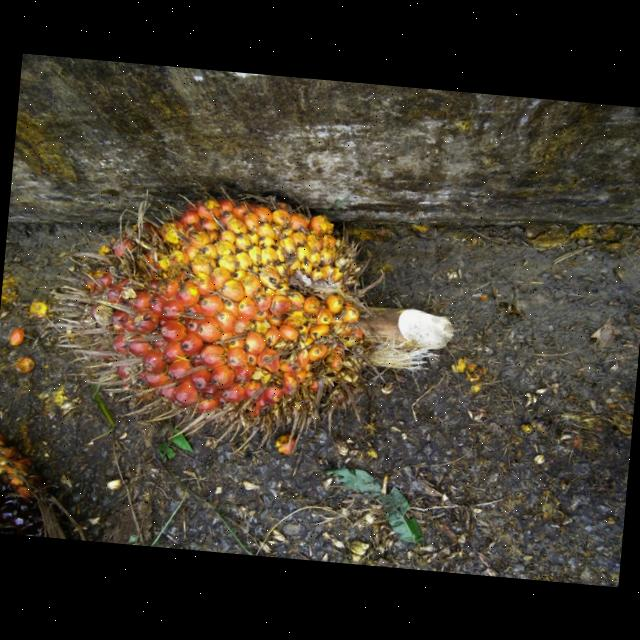Ripe: (81, 192, 374, 423)
